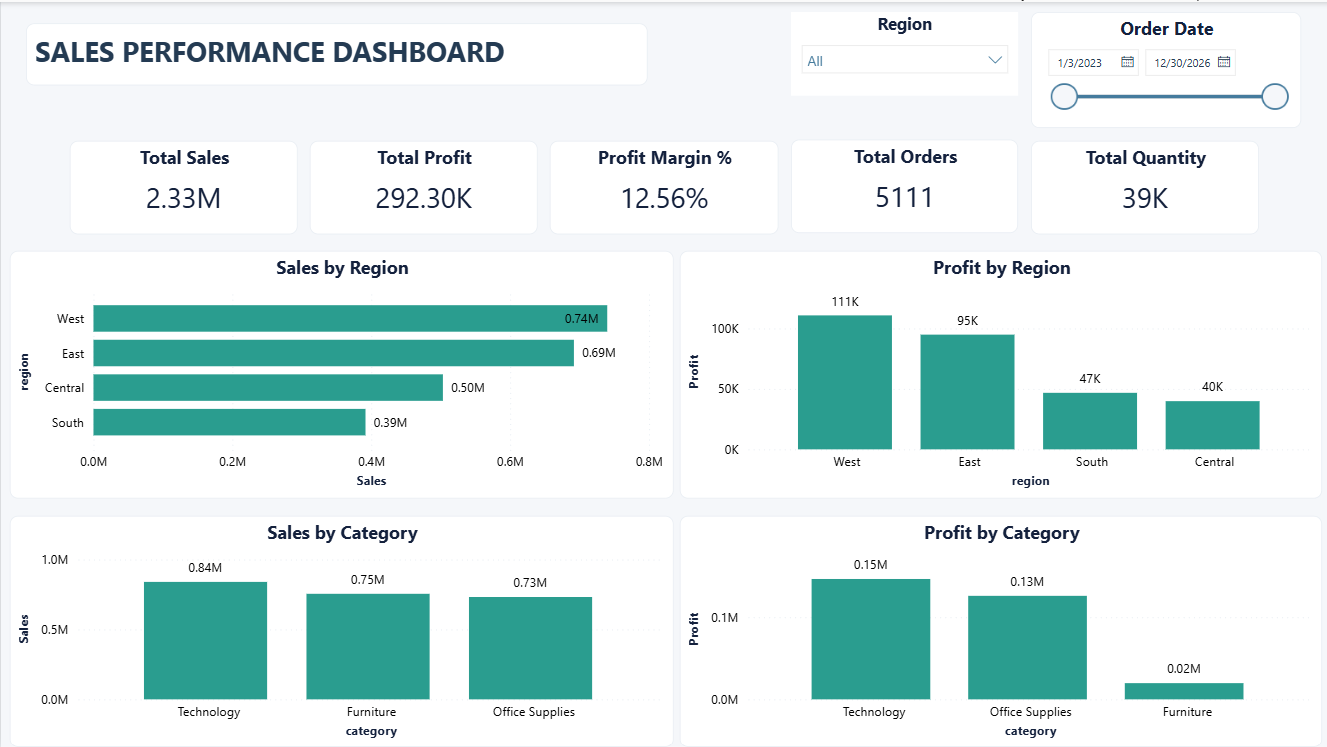

This screenshot's page, from the dashboard's own definition file:
{"tool":"powerbi","page":{"name":"Sales Overview","canvas":[1280,720],"ordinal":0},"visuals":[{"type":"card","title":"Total Sales","fields":{"Values":["sales_performance orders.Total Sales"]},"box":[66,133.9,220,90],"z":0},{"type":"card","title":"Total Profit","fields":{"Values":["sales_performance orders.Total Profit"]},"box":[298,133.9,220,90],"z":1000},{"type":"card","title":"Profit Margin %","fields":{"Values":["sales_performance orders.Profit Margin %"]},"box":[530,133.9,220.8,90],"z":2000},{"type":"card","title":"Total Orders","fields":{"Values":["sales_performance orders.Total Orders"]},"box":[762.5,133,219.6,90.5],"z":3000},{"type":"card","title":"Total Quantity","fields":{"Values":["sales_performance orders.Total Quantity"]},"box":[994,133.9,220,90],"z":4000},{"type":"clusteredBarChart","title":"Sales by Region","fields":{"Category":["sales_performance orders.region"],"Y":["sales_performance orders.Total Sales"]},"box":[8.4,240.1,640.6,238.9],"z":5000},{"type":"clusteredColumnChart","title":"Profit by Region","fields":{"Category":["sales_performance orders.region"],"Y":["sales_performance orders.Total Profit"]},"box":[655.1,240.1,620.1,238.9],"z":6000},{"type":"clusteredColumnChart","title":"Sales by Category","fields":{"Category":["sales_performance orders.category"],"Y":["sales_performance orders.Total Sales"]},"box":[8.4,495.8,640.6,224.4],"z":7000},{"type":"clusteredColumnChart","title":"Profit by Category","fields":{"Category":["sales_performance orders.category"],"Y":["sales_performance orders.Total Profit"]},"box":[655.1,495.8,620.1,224.4],"z":8000},{"type":"textbox","box":[24,20,600,60],"z":9000},{"type":"slicer","title":"Region","fields":{"Values":["sales_performance orders.region"]},"box":[762.5,9.7,219.6,80.8],"z":10000},{"type":"slicer","title":"Order Date","fields":{"Values":["sales_performance orders.order_date"]},"box":[994.1,9.7,260.6,112.2],"z":11000}]}

Visuals, with their boxes in screenshot pixels (x1, y1, x2, y2), scaled from the page's 1280x720 canvas onto the 1327x747 screenshot:
"Total Sales" card: 68 139 297 232
"Total Profit" card: 309 139 537 232
"Profit Margin %" card: 549 139 778 232
"Total Orders" card: 790 138 1018 232
"Total Quantity" card: 1030 139 1259 232
"Sales by Region" clusteredBarChart: 9 249 673 497
"Profit by Region" clusteredColumnChart: 679 249 1322 497
"Sales by Category" clusteredColumnChart: 9 514 673 746
"Profit by Category" clusteredColumnChart: 679 514 1322 746
textbox: 25 21 647 83
"Region" slicer: 790 10 1018 94
"Order Date" slicer: 1031 10 1301 126
